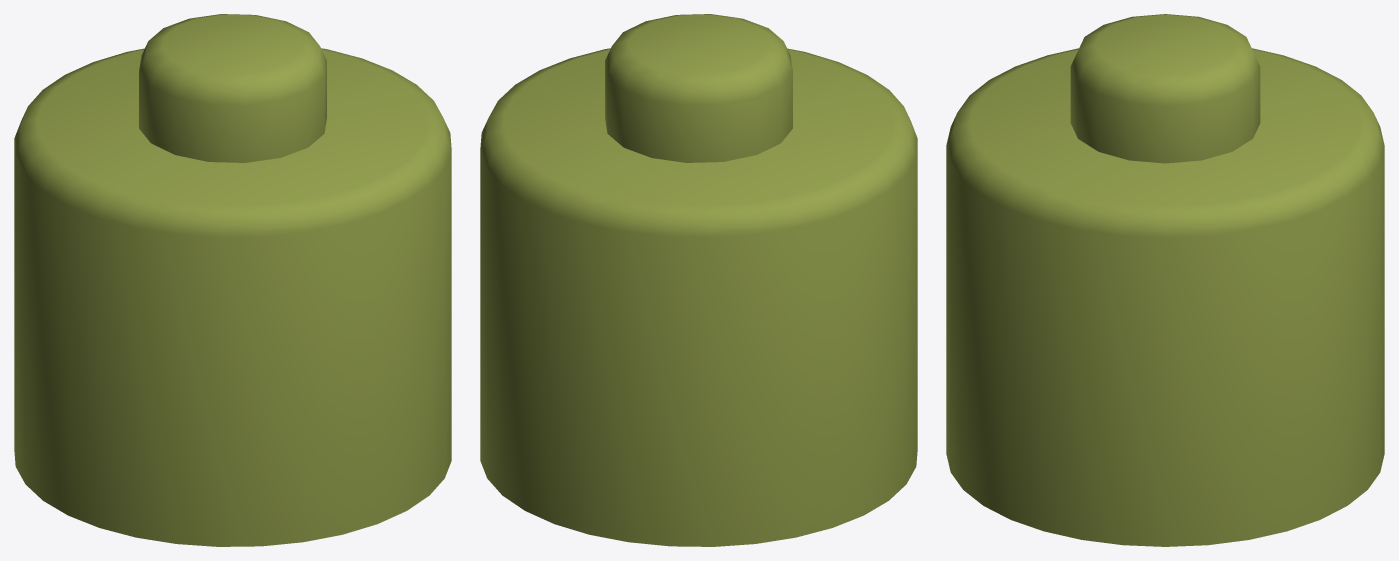
The model's file is Lv2-G-Factory-Top.fbx.
3 renders of one model, left to right at view 1: azimuth 30°, elevation 25°; view 2: azimuth 150°, elevation 25°; view 3: azimuth 270°, elevation 25°, orthographic.
Parts seen in each view (by area): view 1: Lv2-G-Factory-Top; view 2: Lv2-G-Factory-Top; view 3: Lv2-G-Factory-Top.
Part boxes in pixels (x1,y1,x2,y2): Lv2-G-Factory-Top: (14,14,451,546); Lv2-G-Factory-Top: (480,14,917,546); Lv2-G-Factory-Top: (946,14,1384,546).
Size of the model in its own units: 1.85 by 1.91 by 1.85.
